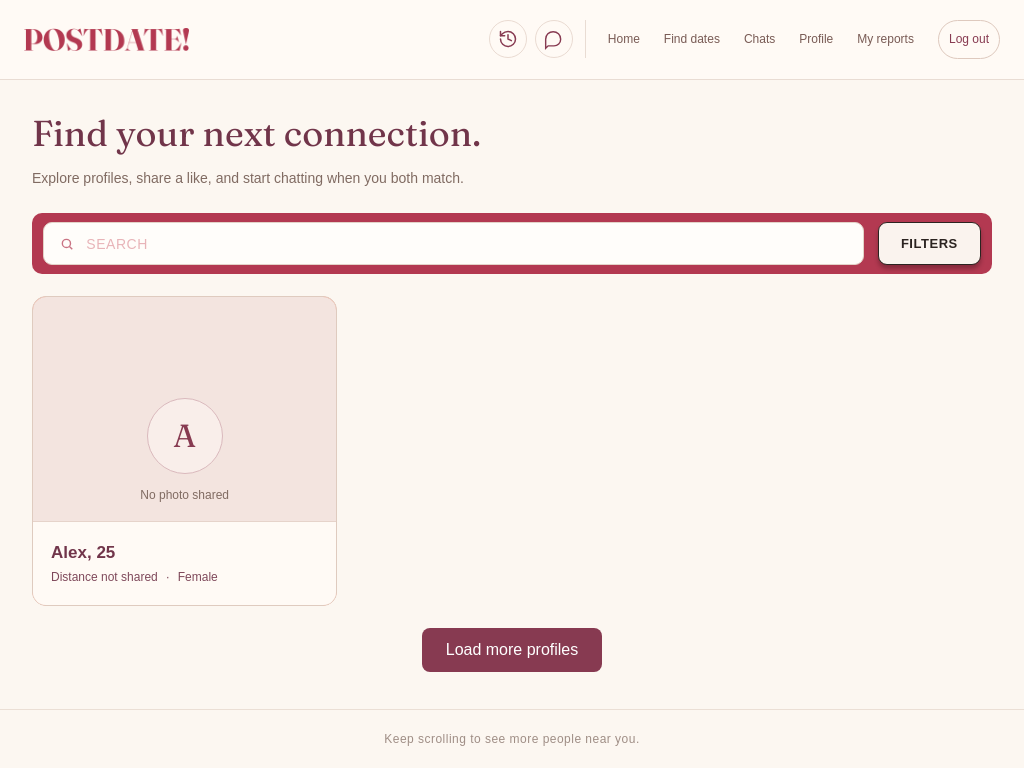
discovery keeps existing profiles while loading another page and passes its cursor
Expected: the text "Alex, 25" is shown, [51,542,115,562]
Click the button "Load more profiles": point(512, 650) [422,628,602,672]
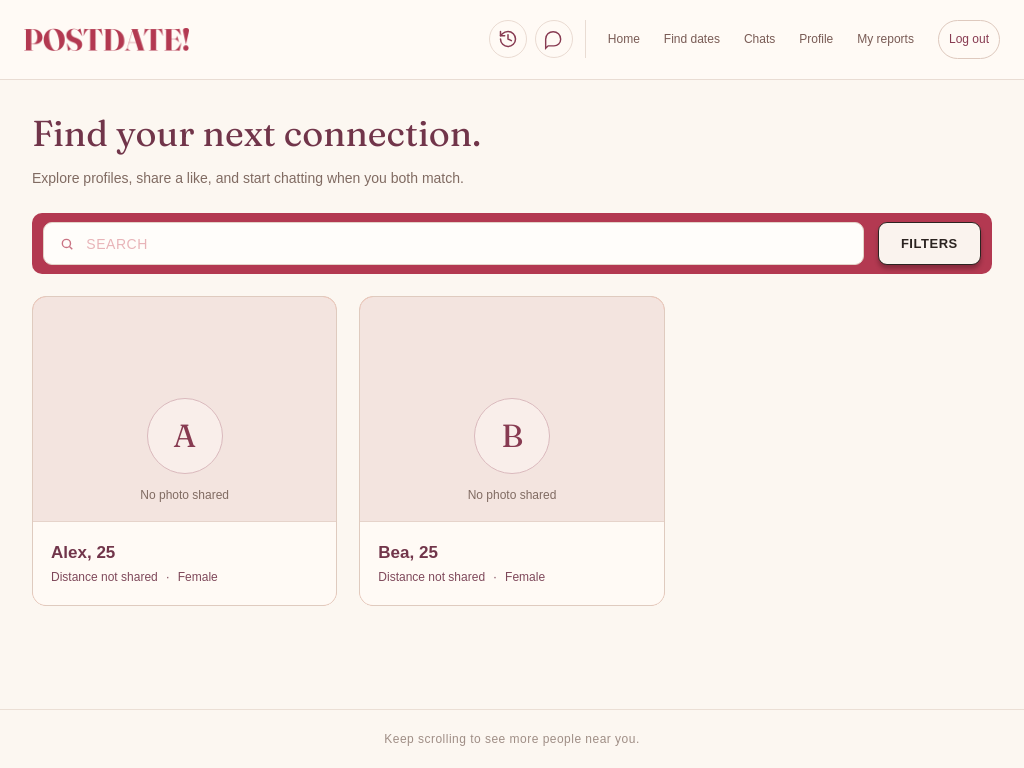
Expected: the text "Alex, 25" is shown, [51,542,115,562]
Now the text "Bea, 25" is shown, box [378,542,438,562]
